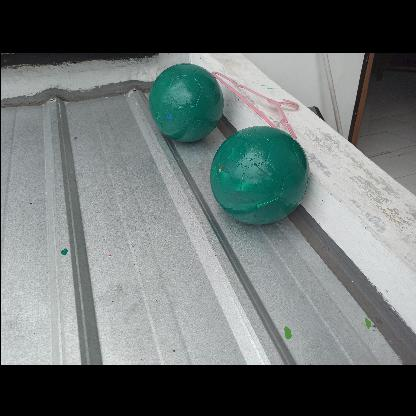green_ball: (209, 121, 309, 221), (146, 62, 224, 140)
